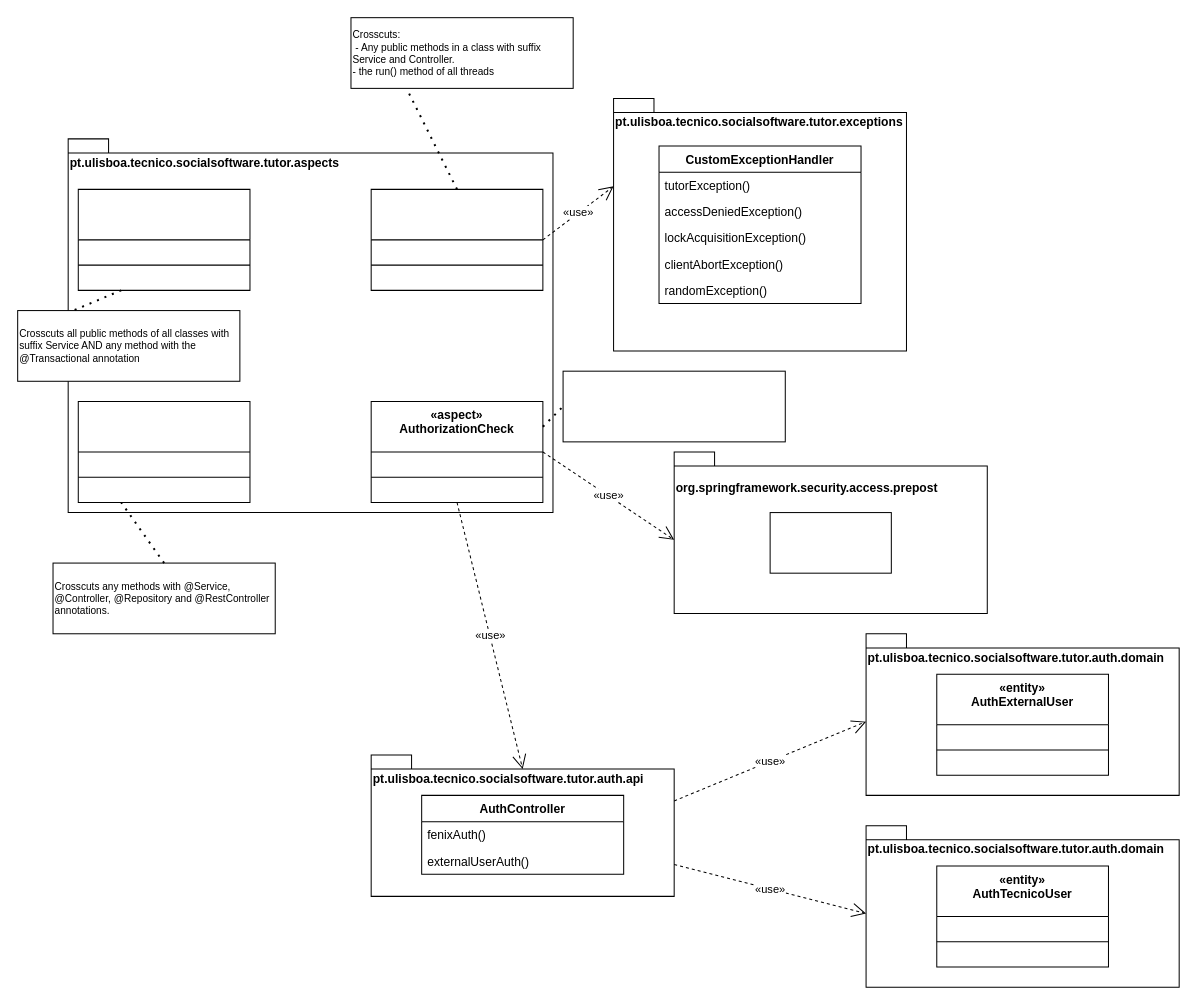
Image size: 1197x1005. Some labels were removed from this diagram. The centre of each missing label's shape, as x and y in pixels:
Crosscuts any method with the @PreAuthorize annotation.: point 673,406
PreAuthorize: point 830,542
«aspect» Enforcement: point 163,451
«aspect» ExceptionHandling: point 456,239
«aspect» TransactionManagement: point 163,239
